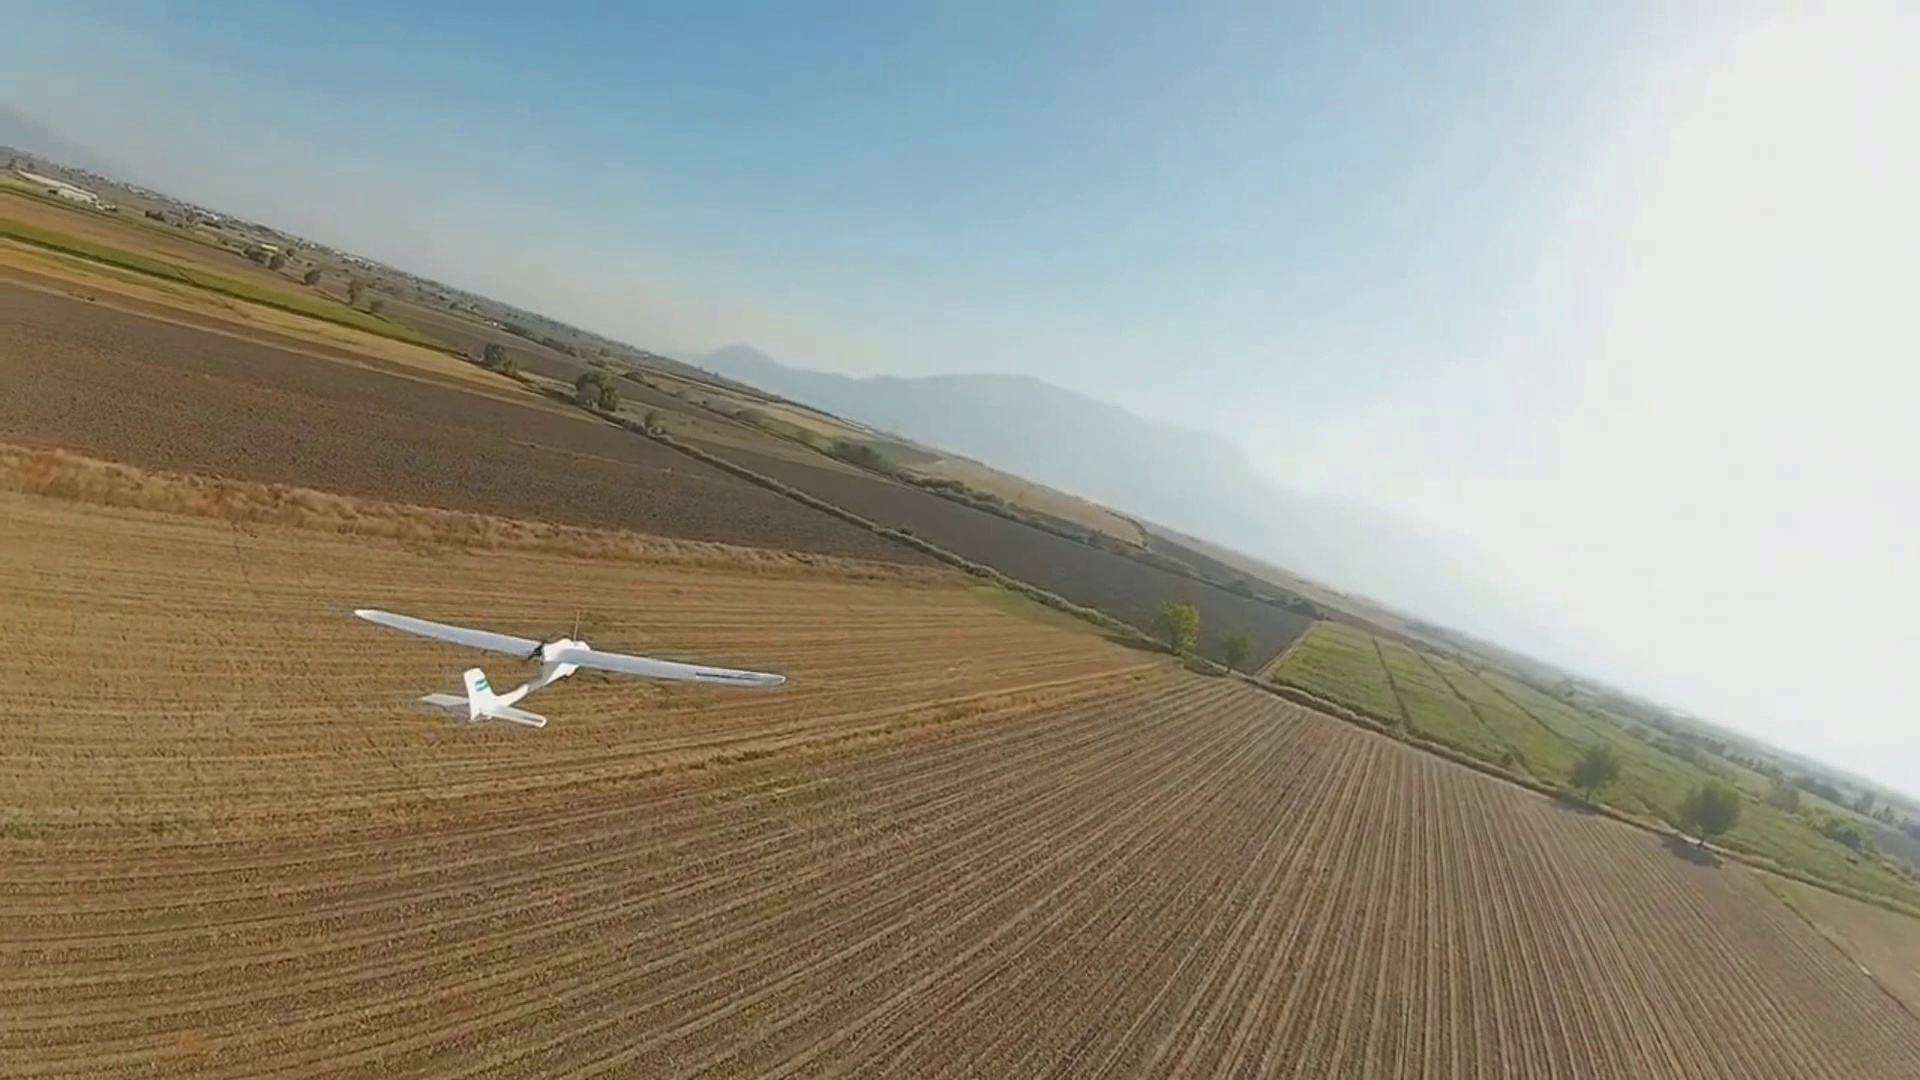airplane: (349, 607, 787, 728)
